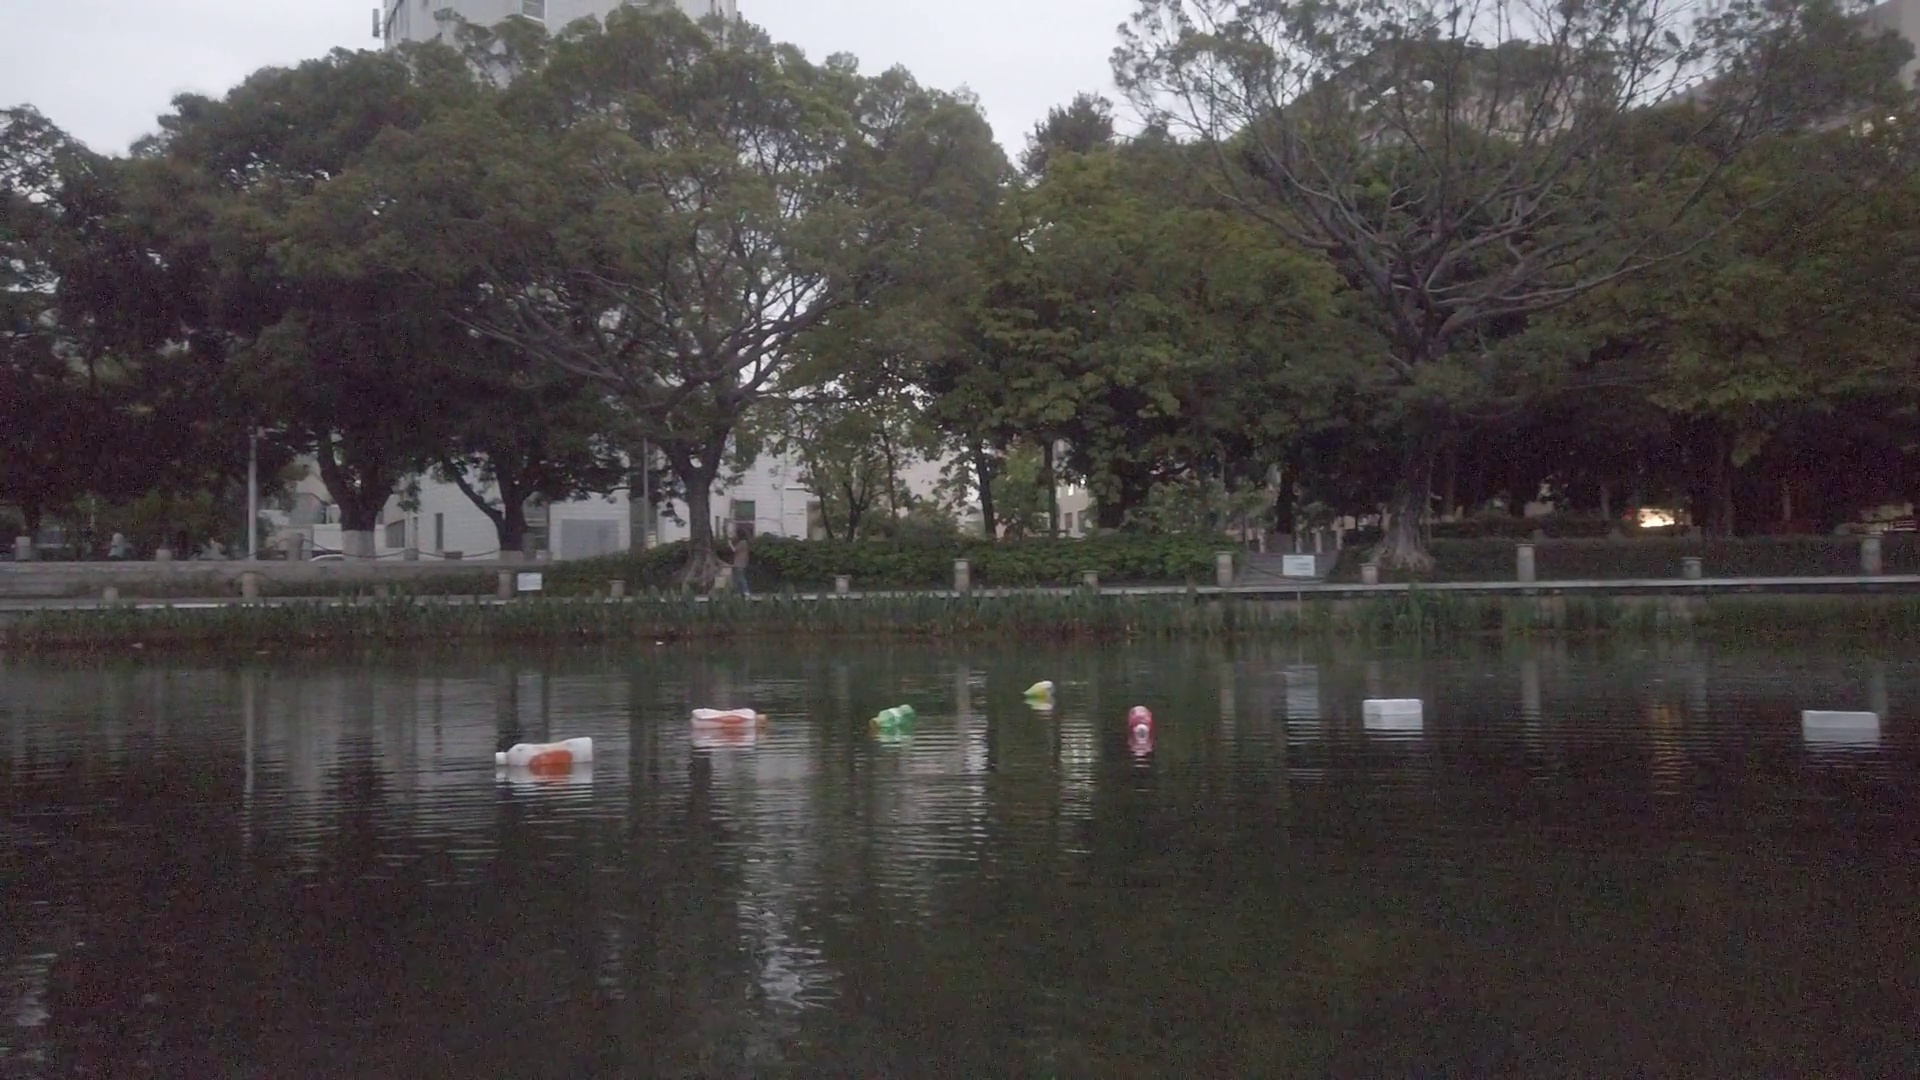bottle: (492, 738, 593, 766), (688, 705, 767, 728), (868, 704, 916, 729), (1125, 704, 1155, 740), (1022, 680, 1056, 702)
carton: (1803, 708, 1880, 736), (1362, 696, 1425, 720)
